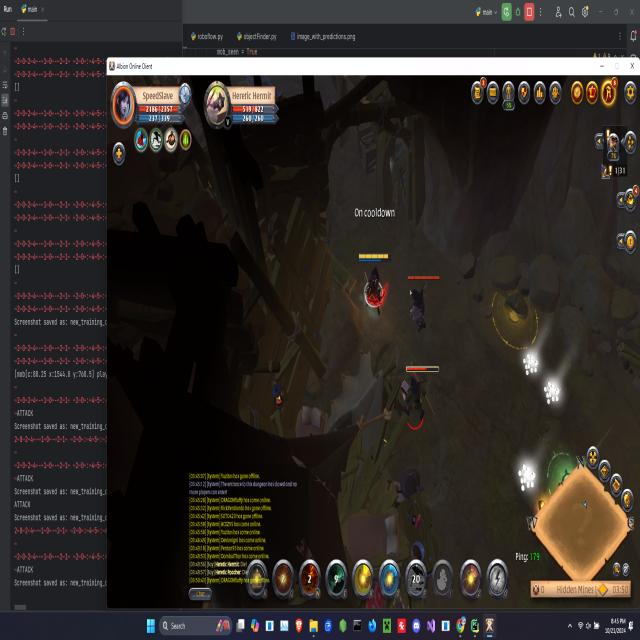ore: (392, 360, 440, 433), (402, 270, 440, 336)
red: (356, 248, 392, 314)
stone: (514, 453, 541, 496), (541, 374, 563, 412), (521, 346, 542, 379)
